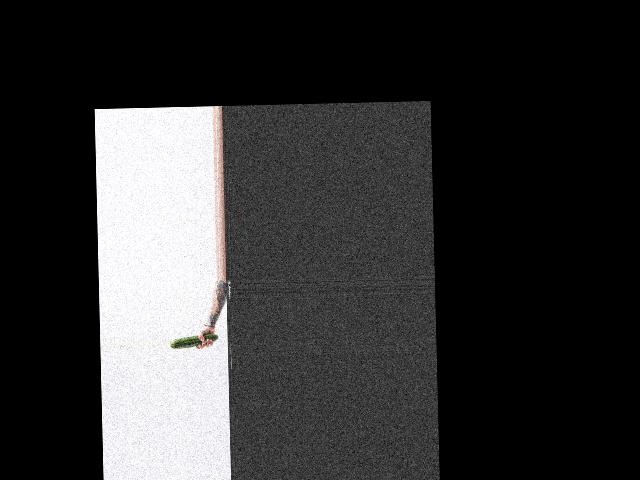cucumber: (169, 334, 218, 349)
